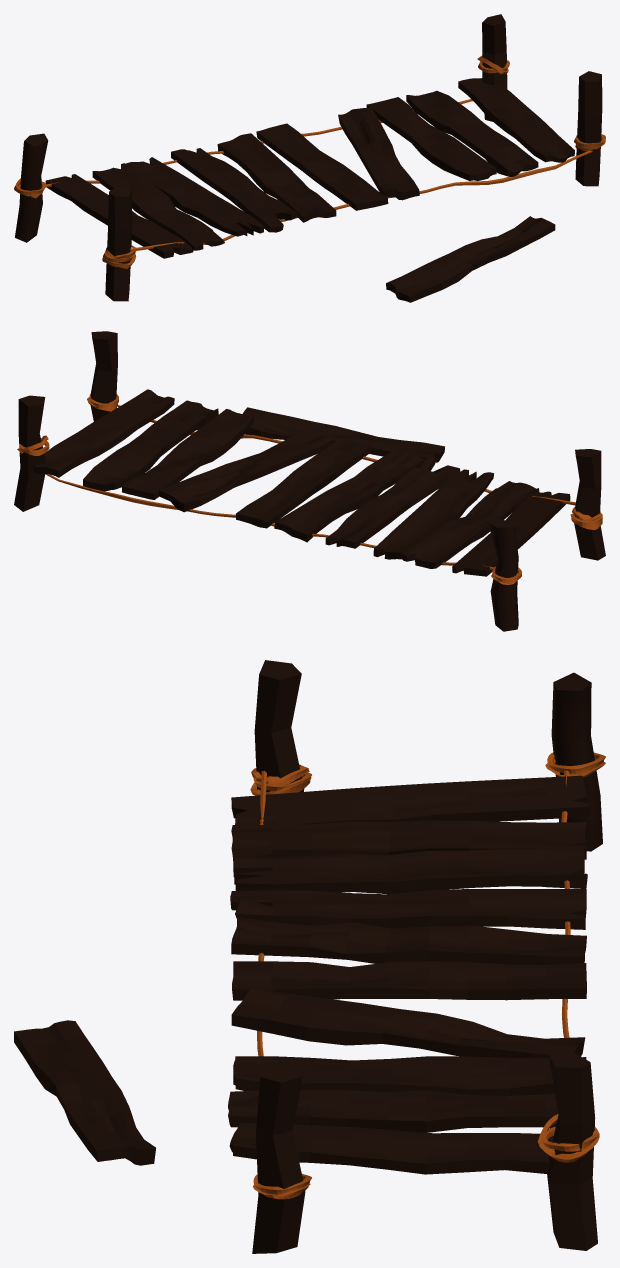
The model's file is bridge.FBX.
3 renders of one model, top to bottom at view 1: azimuth 30°, elevation 25°; view 2: azimuth 150°, elevation 25°; view 3: azimuth 270°, elevation 25°, orthographic. The views are drawn at different scales.
Parts seen in each view (by area): view 1: bridge010, Cylinder004, Cylinder001, Cylinder002, Cylinder003, Cylinder005; view 2: bridge010, Cylinder003, Cylinder002, Cylinder001, Cylinder004, Cylinder006; view 3: bridge010, Cylinder003, Cylinder004, Cylinder002, Cylinder001.
Part boxes in pixels (x1,y1,x2,y2): bridge010: [45, 78, 574, 302]; Cylinder004: [575, 71, 602, 186]; Cylinder001: [105, 186, 132, 301]; Cylinder002: [15, 133, 48, 242]; Cylinder003: [482, 14, 507, 121]; Cylinder005: [130, 150, 592, 251]; bridge010: [33, 389, 570, 576]; Cylinder003: [14, 395, 45, 511]; Cylinder002: [488, 518, 518, 631]; Cylinder001: [574, 449, 605, 560]; Cylinder004: [90, 331, 117, 421]; Cylinder006: [45, 473, 493, 570]; bridge010: [14, 775, 589, 1174]; Cylinder003: [547, 1051, 597, 1250]; Cylinder004: [252, 1062, 305, 1253]; Cylinder002: [551, 672, 602, 851]; Cylinder001: [254, 660, 304, 792].
Bounding box in the file's own units: 447 × 94.02 × 259.
